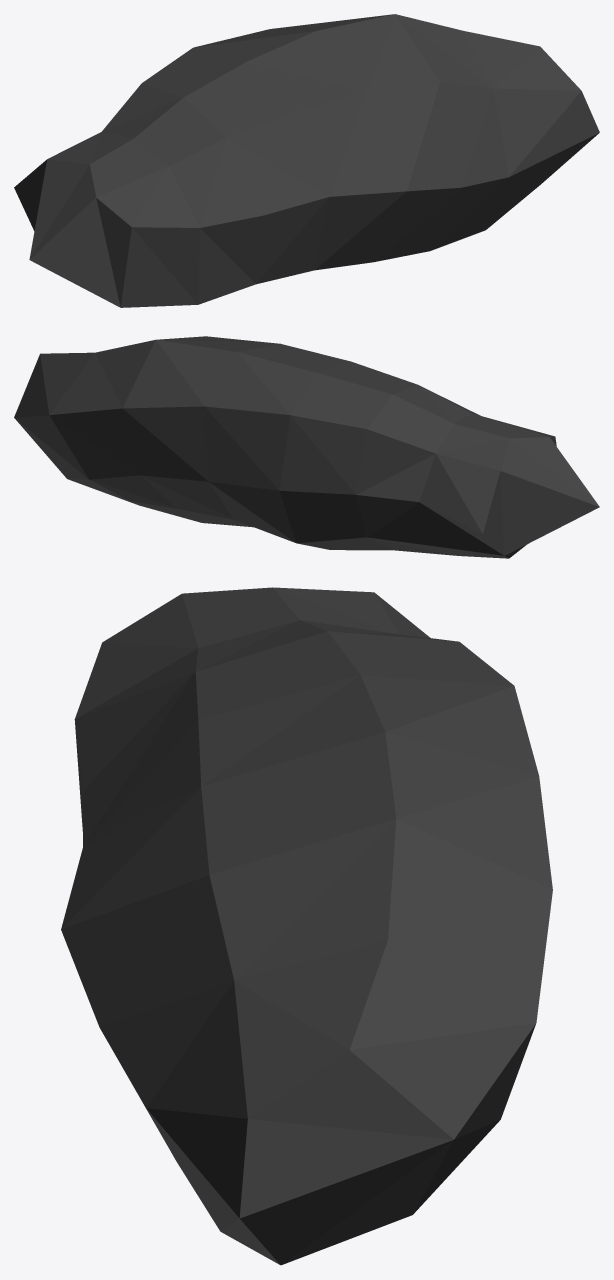
Rendered from RHL_navic_bone.glb.
The picture shows the model from 3 angles, top to bottom: view 1: azimuth 30°, elevation 25°; view 2: azimuth 150°, elevation 25°; view 3: azimuth 270°, elevation 25°; orthographic projection. The views are drawn at different scales.
Visible parts, largest first — view 1: RHL_navic_bone; view 2: RHL_navic_bone; view 3: RHL_navic_bone.
Part boxes in pixels (left/top/right/bottom): RHL_navic_bone: left=14, top=14, right=599, bottom=307; RHL_navic_bone: left=14, top=336, right=599, bottom=558; RHL_navic_bone: left=61, top=587, right=552, bottom=1265.
Size of the model in its own units: 4.85 by 1.63 by 1.86.
1 material, 1 textured.
